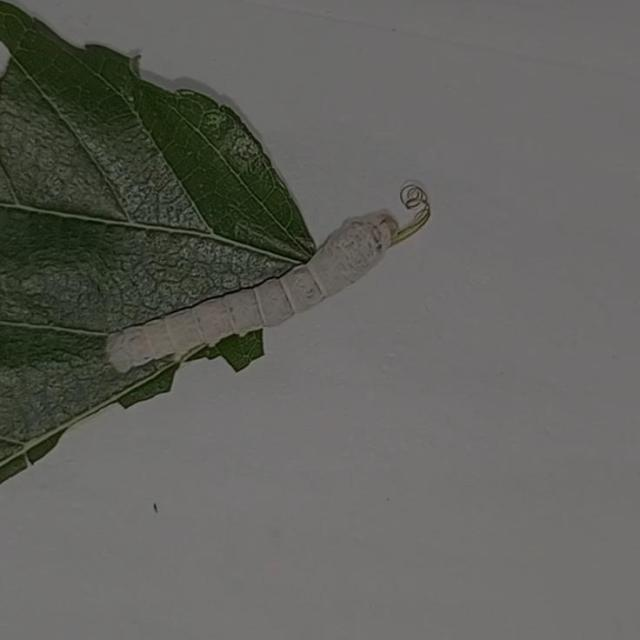Healthy: (81, 186, 422, 406)
